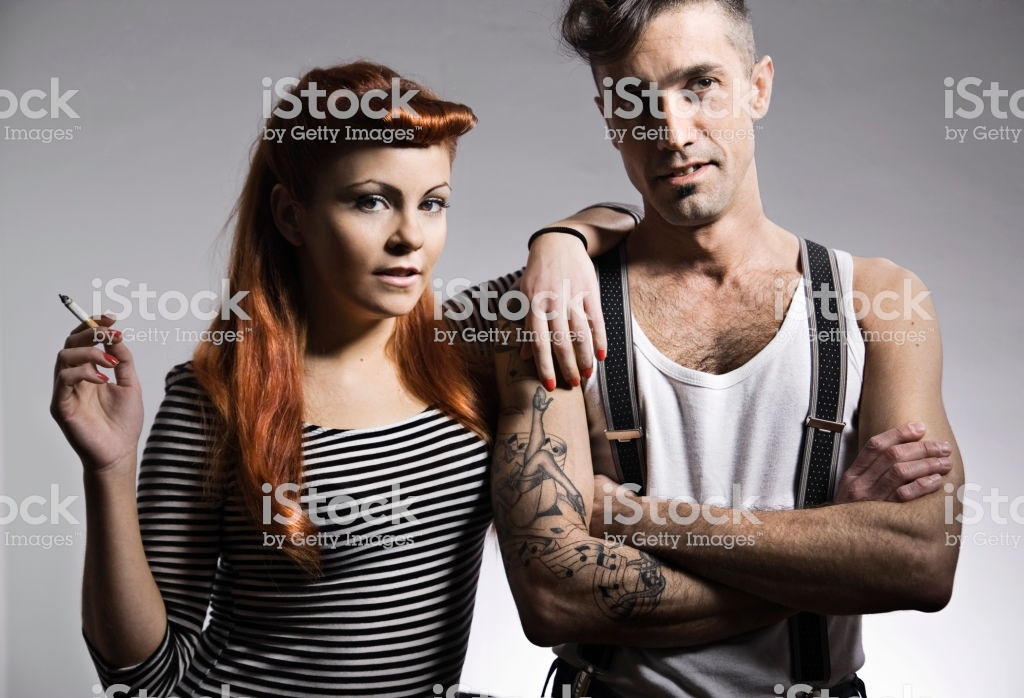sigaretta: (57, 289, 112, 339)
